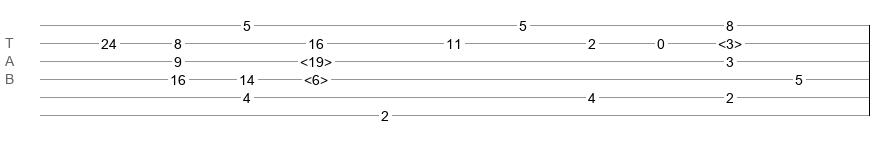0: (657, 36, 665, 46)
11: (446, 36, 462, 46)
14: (239, 72, 255, 82)
16: (170, 72, 186, 82), (308, 36, 324, 46)
2: (381, 108, 389, 118), (588, 36, 596, 46), (726, 90, 734, 100)
24: (101, 36, 117, 46)
3: (726, 54, 734, 64)
4: (243, 90, 251, 100), (588, 90, 596, 100)
5: (243, 18, 251, 28), (519, 18, 527, 28), (795, 72, 803, 82)
8: (174, 36, 182, 46), (726, 18, 734, 28)
9: (174, 54, 182, 64)
harmonic: (300, 54, 332, 64), (304, 72, 328, 82), (718, 36, 742, 46)
